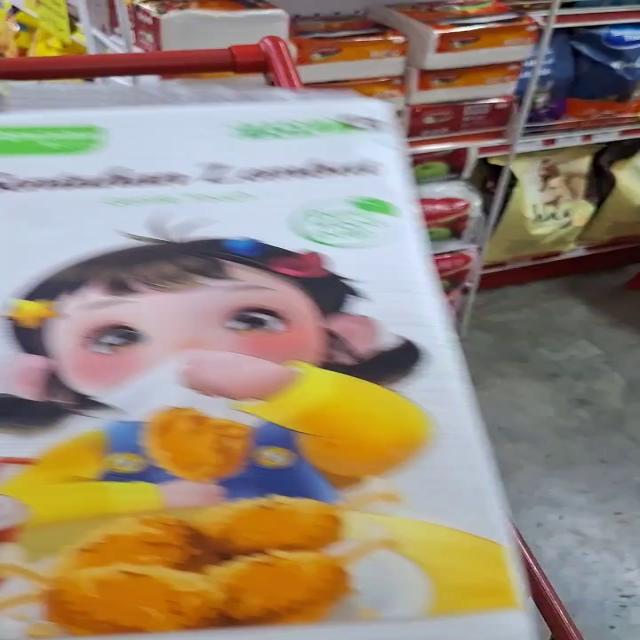Tisu: (4, 375, 520, 640), (0, 93, 447, 386)
